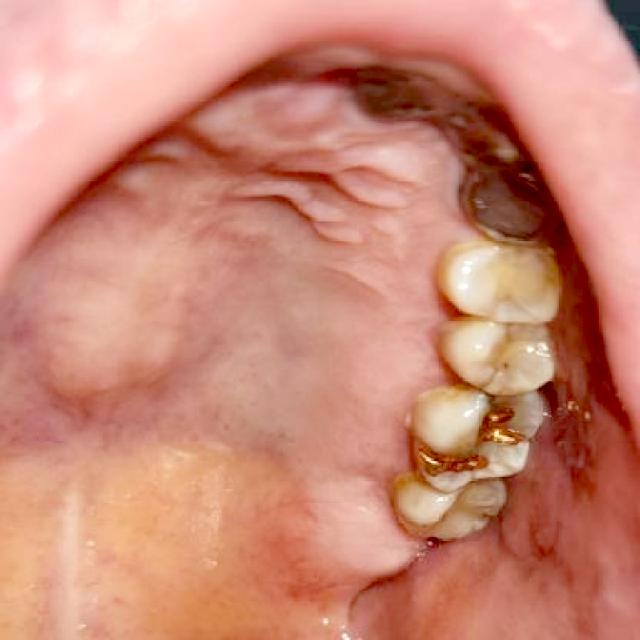Plaque: (481, 354, 515, 394)
